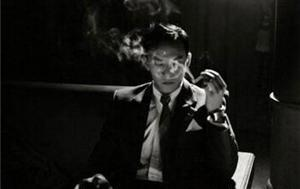smoking: (189, 71, 210, 86)
